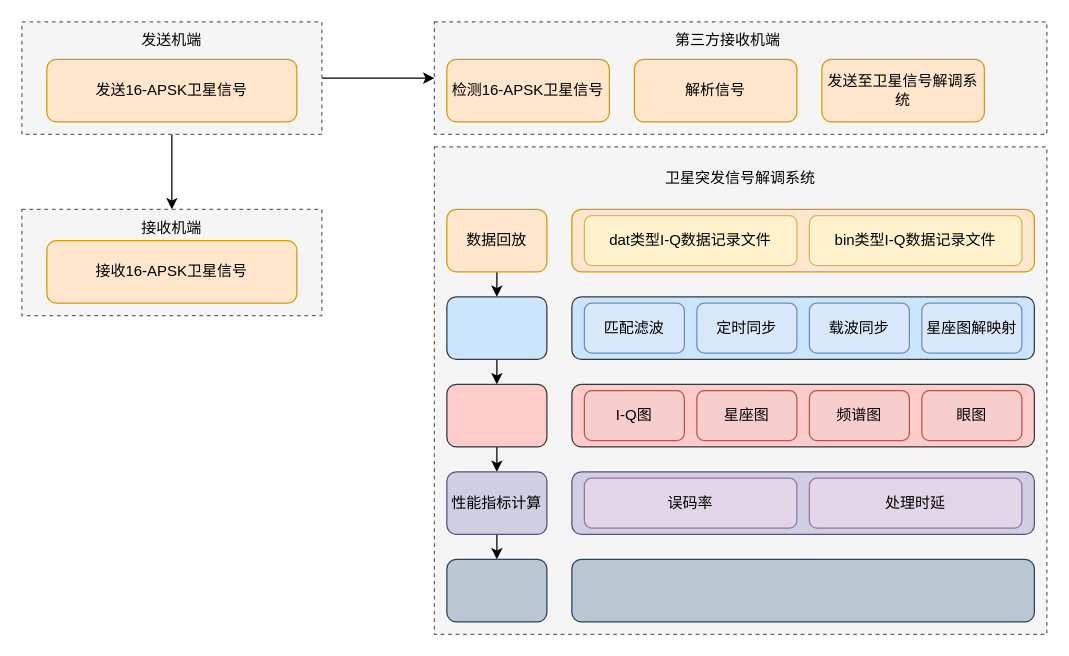
The diagram is 1069 pixels wide and 656 high, and some of its shapes have lost their labels. Here are the shapes that lost their labels. From the top down, the centre of each, then its label:
At (496,327): "信号解调".
At (496,415): "解调结果 图表可视化".
At (496,590): "持久化存储".
At (802,590): "本地持久化存储".
